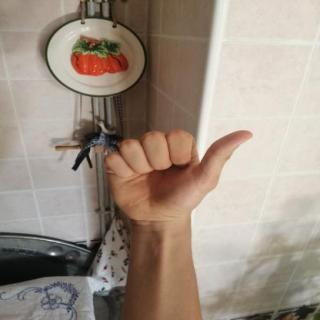DAD: (90, 120, 262, 231)
